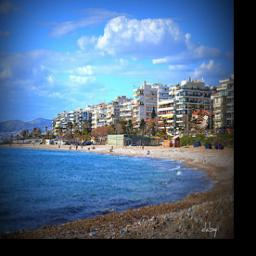Sparrow: (184, 112, 211, 135)
